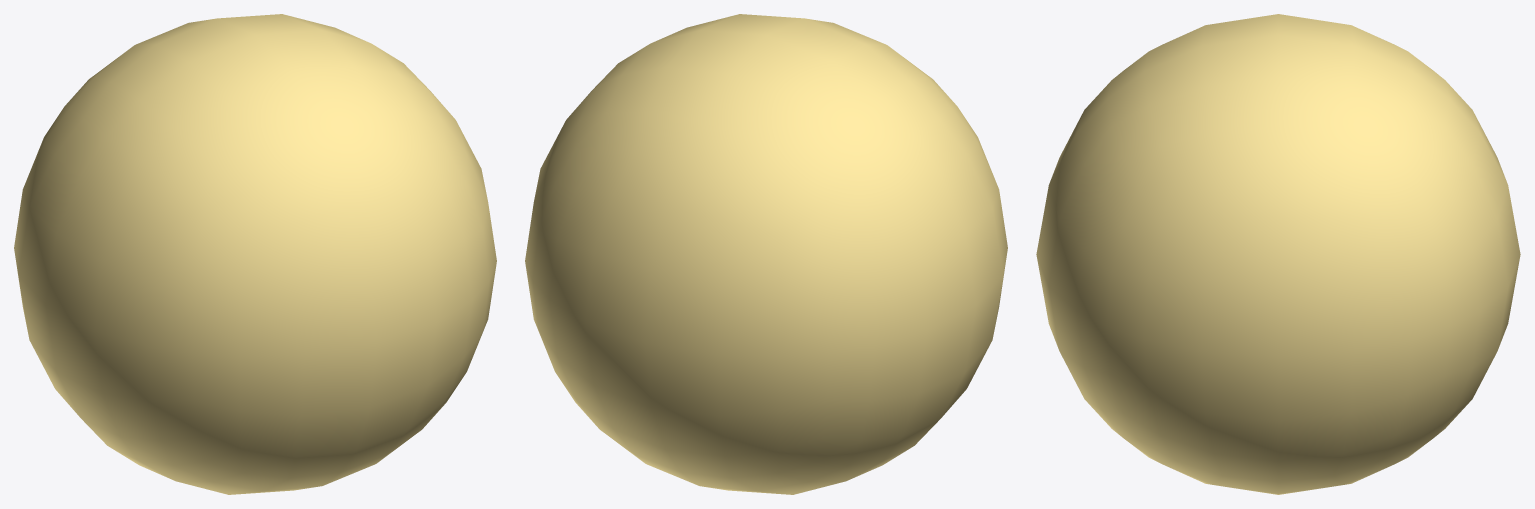
File: boule1_low.FBX
3 renders of one model, left to right at view 1: azimuth 30°, elevation 25°; view 2: azimuth 150°, elevation 25°; view 3: azimuth 270°, elevation 25°, orthographic.
Visible parts, largest first — view 1: boule_low; view 2: boule_low; view 3: boule_low.
Boxes of the visible parts, x1,y1,x2,y2 form: boule_low: [14, 14, 496, 494]; boule_low: [525, 14, 1007, 494]; boule_low: [1036, 14, 1520, 494].
Bounding box in the file's own units: 3.94 × 3.94 × 3.94.
